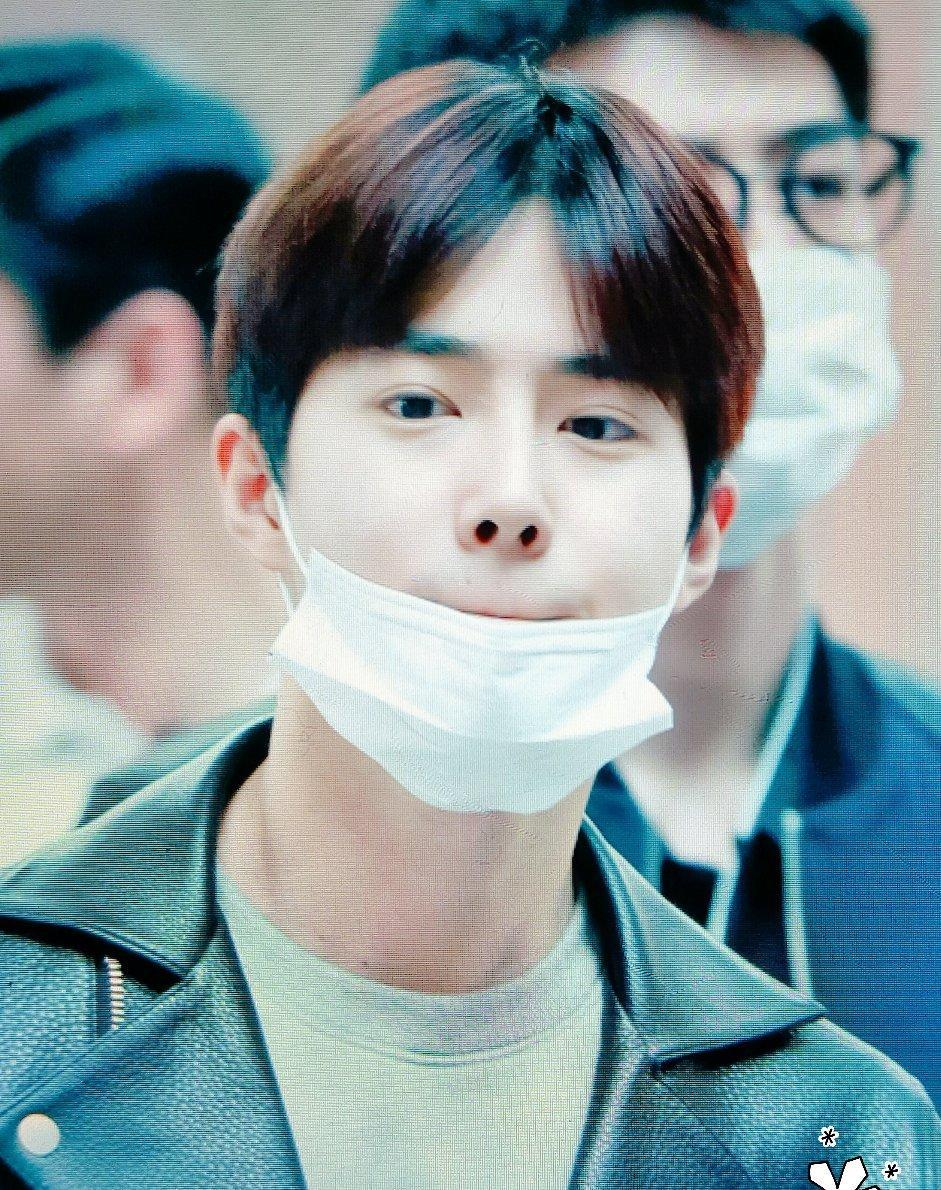OK: (511, 64, 884, 571)
WRONG: (250, 292, 694, 801)
